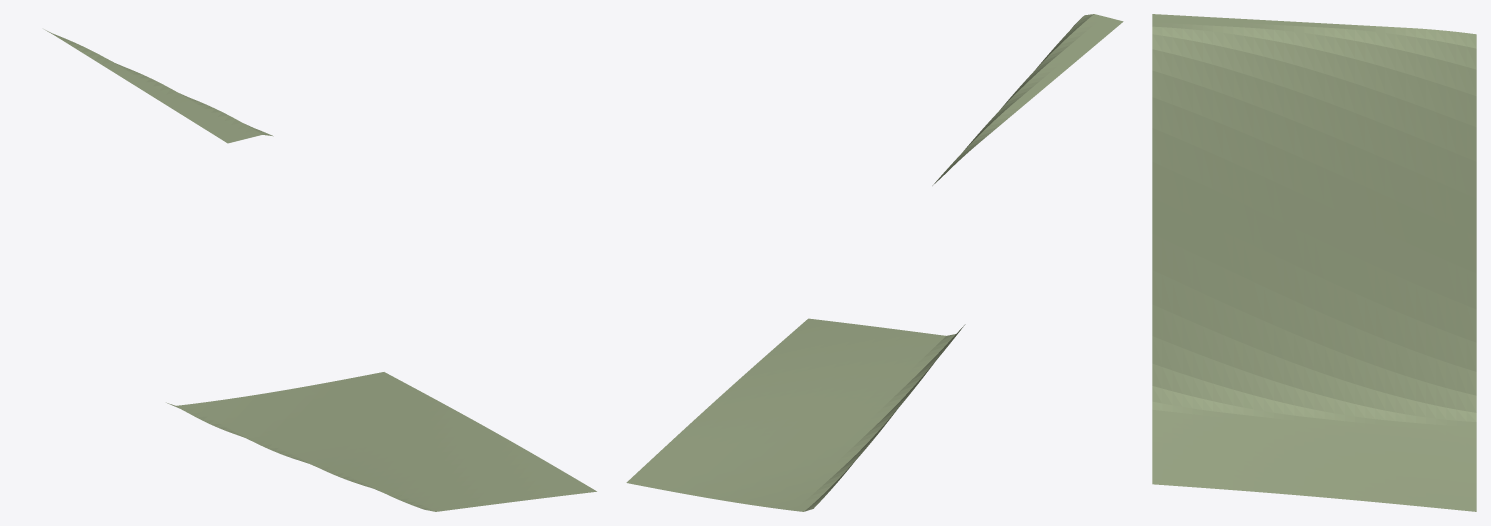
The model's file is alpine-12-4.glb.
The picture shows the model from 3 angles, left to right: view 1: azimuth 30°, elevation 25°; view 2: azimuth 150°, elevation 25°; view 3: azimuth 270°, elevation 25°; orthographic projection. The views are drawn at different scales.
Visible parts, largest first — view 1: alpine-12-4; view 2: alpine-12-4; view 3: alpine-12-4.
Boxes of the visible parts, <box> form: alpine-12-4: <box>44,29,596,511</box>; alpine-12-4: <box>626,14,1123,511</box>; alpine-12-4: <box>1152,14,1476,511</box>.
Size of the model in its own units: 256 by 314 by 256.
